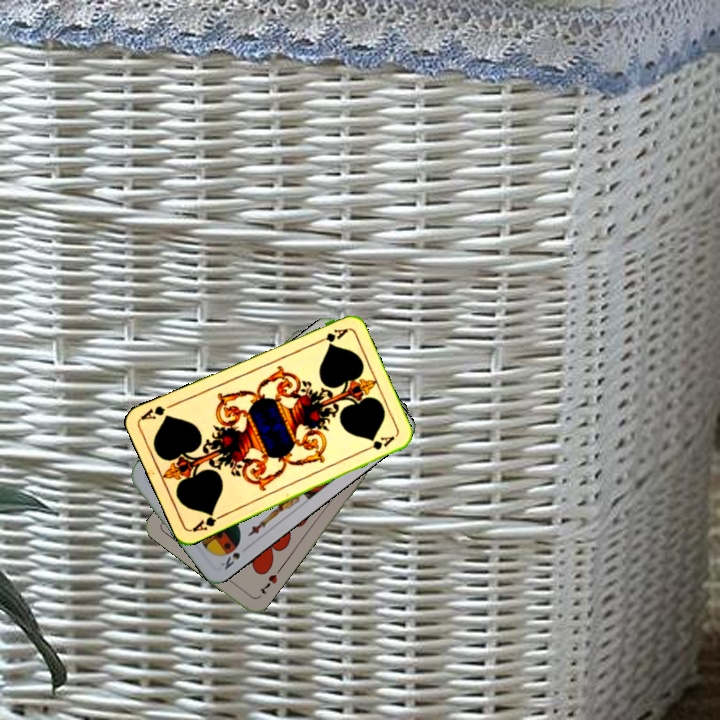GA: (188, 508, 227, 535), (311, 324, 350, 347)
H7: (255, 570, 280, 597)
SK: (216, 548, 243, 572)
